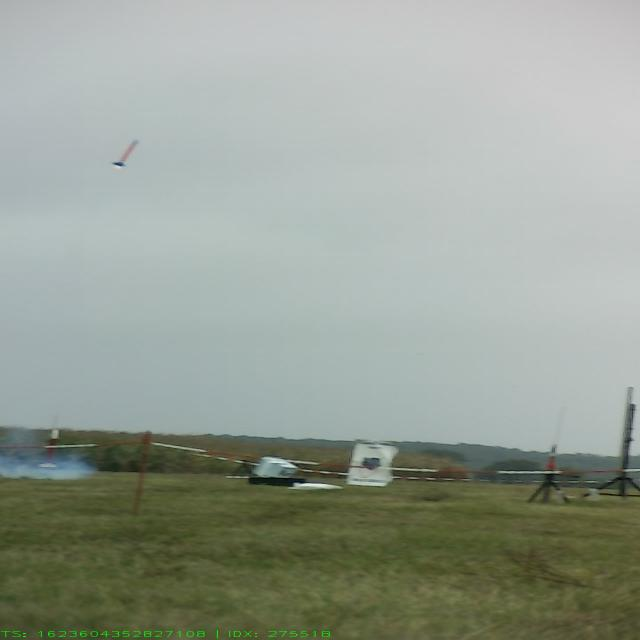Rocket: (38, 429, 61, 469), (112, 139, 139, 167), (546, 444, 558, 471)
